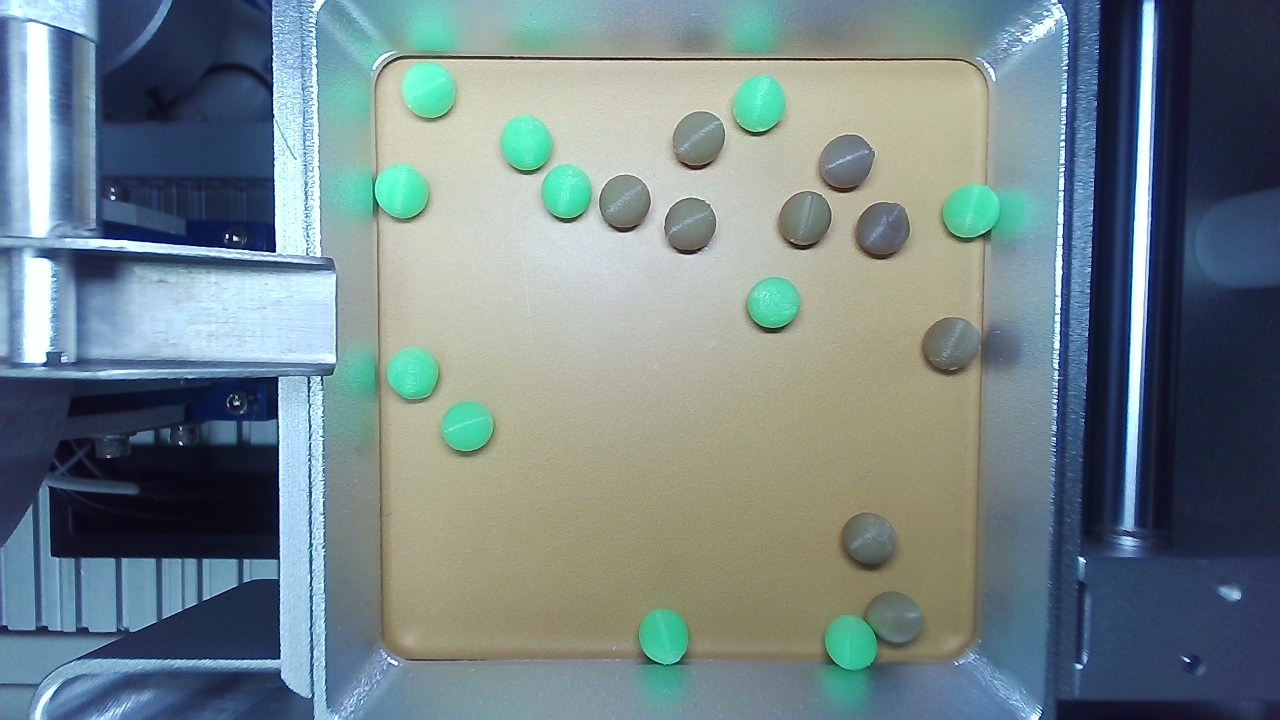XLabel: (471, 407, 508, 443)
YLabel: (240, 411, 276, 446)
none: (175, 486, 339, 656)
withoutcover: (334, 476, 573, 720)
